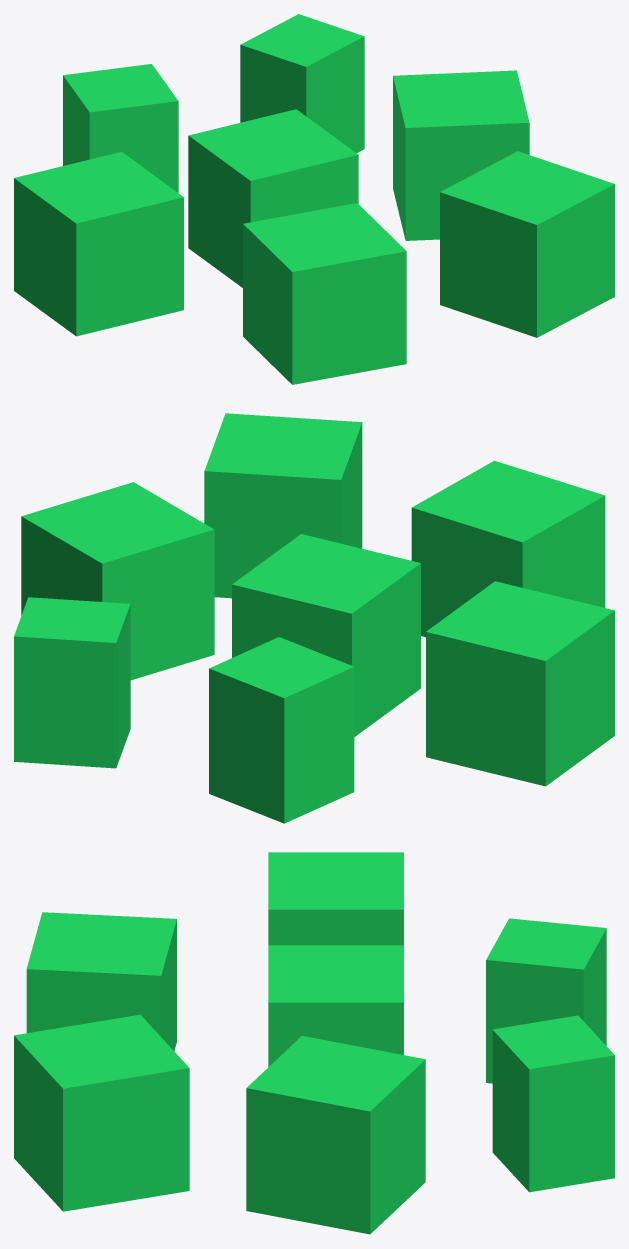
The model's file is chopped_onions-BKWYXyX6.glb.
3 views of the same model, one above another, from view 1: azimuth 30°, elevation 25°; view 2: azimuth 150°, elevation 25°; view 3: azimuth 270°, elevation 25° (orthographic). The views are drawn at different scales.
Parts seen in each view (by area): view 1: Cube.005, Cube.002, Cube.003, Cube, Cube.001, Cube.006, Cube.004; view 2: Cube.002, Cube.001, Cube.003, Cube.004, Cube, Cube.005, Cube.006; view 3: Cube.001, Cube.005, Cube.006, Cube.003, Cube, Cube.002, Cube.004.
Boxes of the visible parts, <box> form: Cube.005: <box>440,151,614,337</box>; Cube.002: <box>14,151,183,336</box>; Cube.003: <box>243,203,406,384</box>; Cube: <box>188,109,358,287</box>; Cube.001: <box>393,70,529,240</box>; Cube.006: <box>240,14,364,153</box>; Cube.004: <box>63,64,178,192</box>; Cube.002: <box>426,581,614,786</box>; Cube.001: <box>21,482,214,680</box>; Cube.003: <box>411,460,605,637</box>; Cube.004: <box>209,637,354,823</box>; Cube: <box>232,534,420,736</box>; Cube.005: <box>204,413,362,598</box>; Cube.006: <box>14,597,130,768</box>; Cube.001: <box>246,1036,425,1234</box>; Cube.005: <box>14,1014,189,1211</box>; Cube.006: <box>492,1015,614,1192</box>; Cube.003: <box>26,912,176,1050</box>; Cube: <box>268,945,403,1066</box>; Cube.002: <box>268,852,403,945</box>; Cube.004: <box>486,918,606,1083</box>.
Size of the model in its own units: 0.4999 by 0.1106 by 0.4901.
